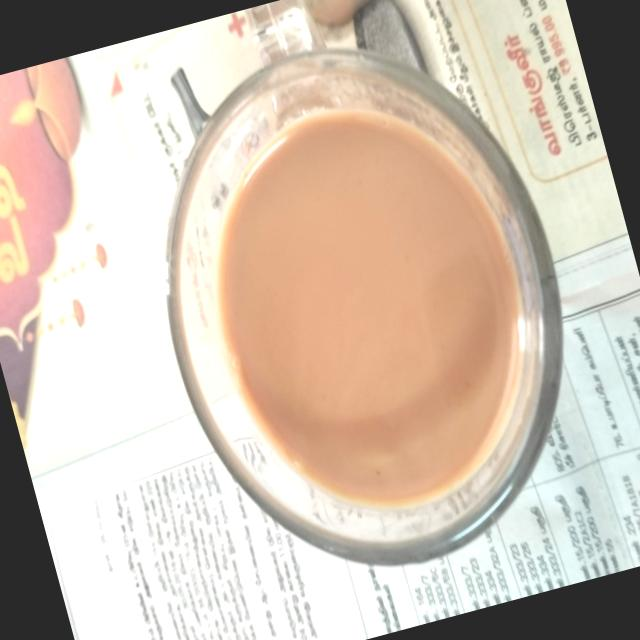glass-VX4N: (92, 0, 622, 615)
